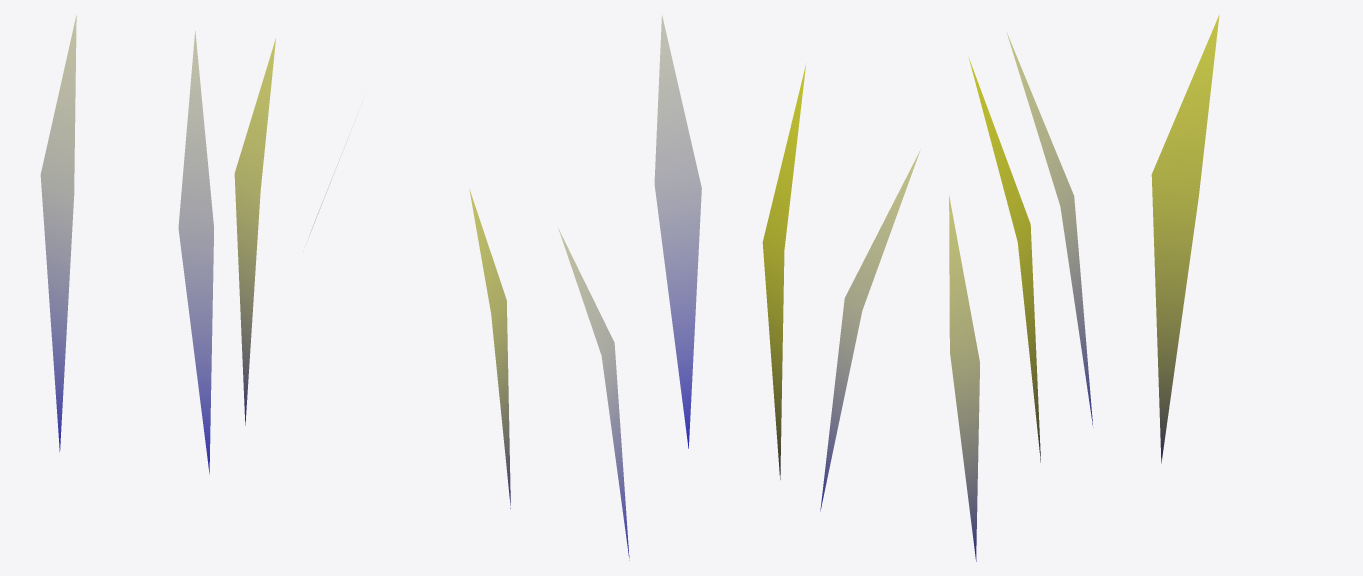
The picture shows the model from 3 angles, left to right: view 1: azimuth 30°, elevation 25°; view 2: azimuth 150°, elevation 25°; view 3: azimuth 270°, elevation 25°; orthographic projection. The views are drawn at different scales.
Parts seen in each view (by area): view 1: Grass_2; view 2: Grass_2; view 3: Grass_2.
Boxes of the visible parts, x1,y1,x2,y2 form: Grass_2: (40,15,357,473); Grass_2: (469,15,920,560); Grass_2: (949,14,1219,561).
Size of the model in its own units: 0.6979 by 0.829 by 0.6931.
